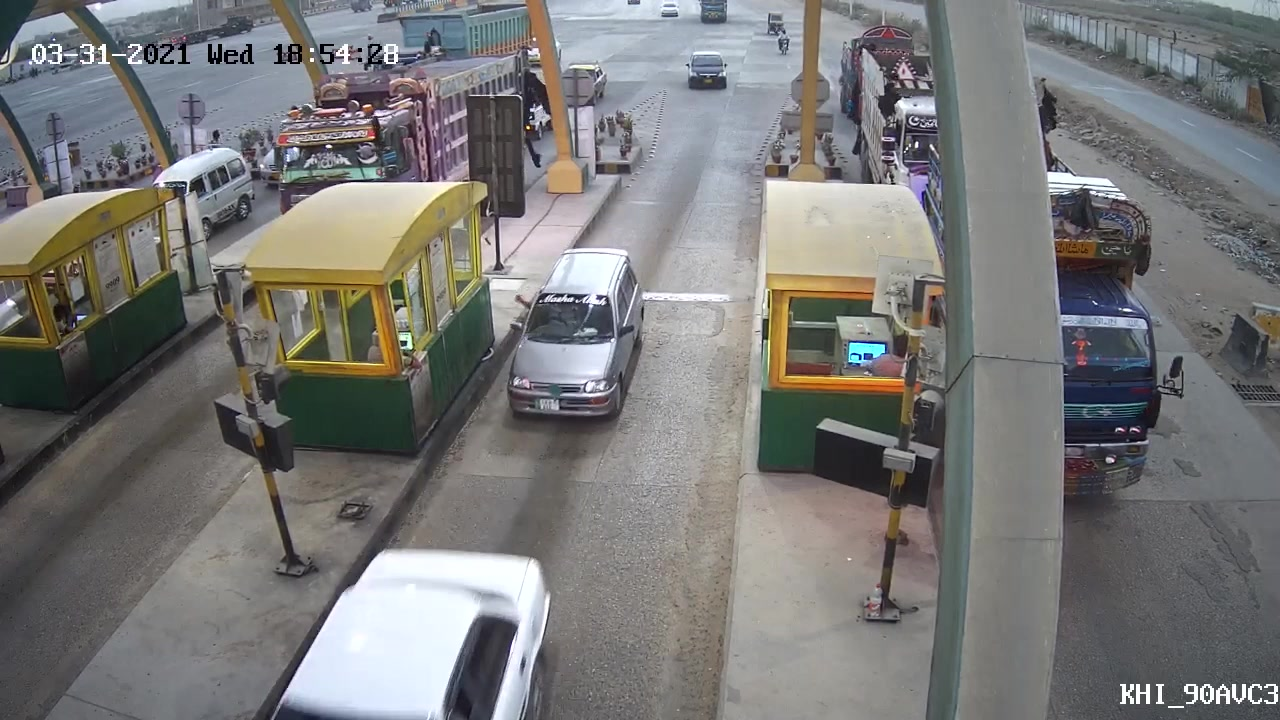F1: (503, 246, 642, 419)
